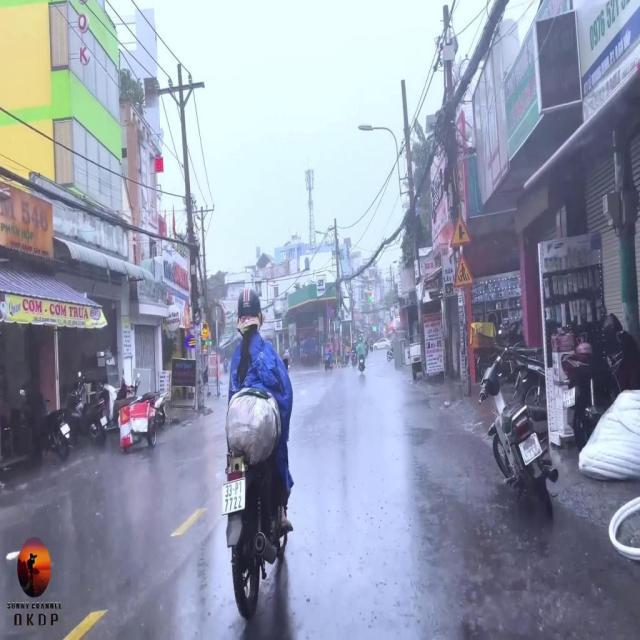chu_y_nguoi_di_bo_cat_ngang: (454, 252, 474, 286)
giao_nhau_voi_duong_khong_uu_tien: (449, 214, 472, 248)
